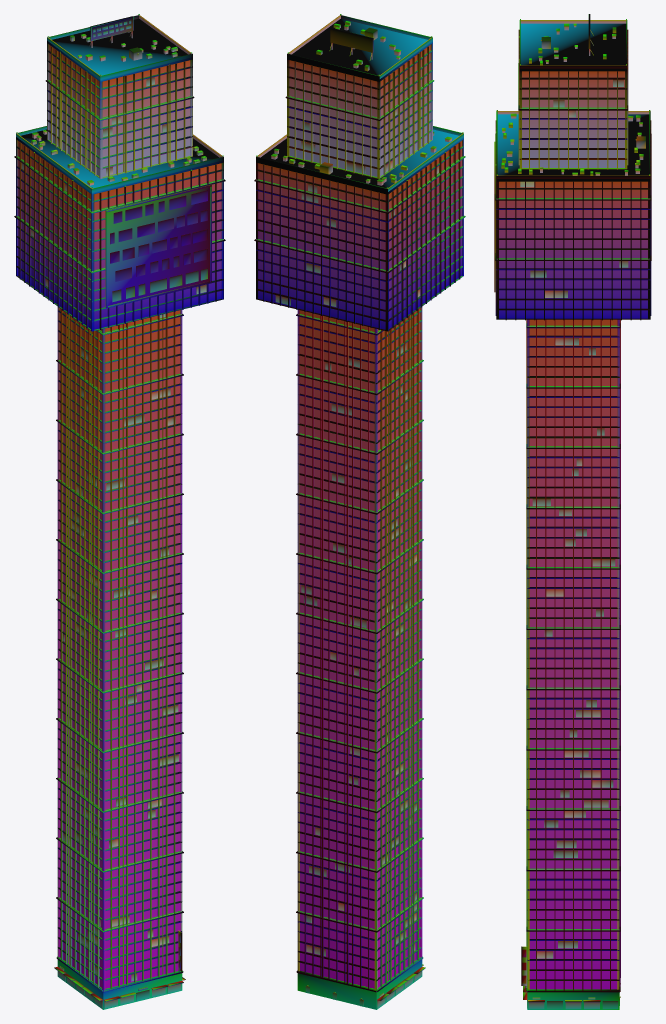
File: Tower_Crown_V6.fbx
3 views of the same model, side by side, from view 1: azimuth 30°, elevation 25°; view 2: azimuth 150°, elevation 25°; view 3: azimuth 270°, elevation 25° (orthographic).
Visible parts, largest first — view 1: Tower_Crown_V6_LOD0; view 2: Tower_Crown_V6_LOD0; view 3: Tower_Crown_V6_LOD0.
Boxes of the visible parts, <box> form: Tower_Crown_V6_LOD0: <box>14,14,225,1009</box>; Tower_Crown_V6_LOD0: <box>254,14,465,1009</box>; Tower_Crown_V6_LOD0: <box>494,14,651,1009</box>.
Size of what is drawn, in the model's own units: 50.7 by 346 by 51.02.
